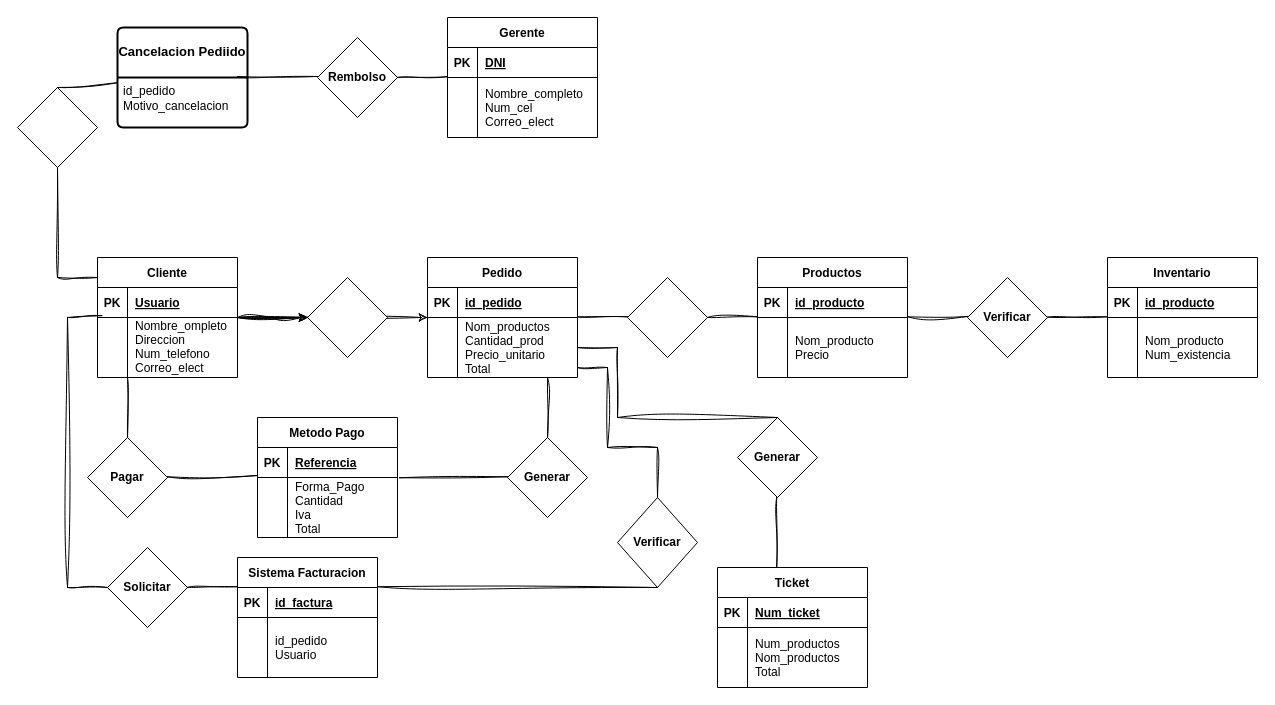
This 1275x705 diagram has some shape labels left out. The shapes that lost their labels are listed below. From the top down, each one's centre as x and y in pixels, then its label:
At pixel 57 127: "Pide".
At pixel 347 317: "Compra".
At pixel 667 317: "Agregar".
